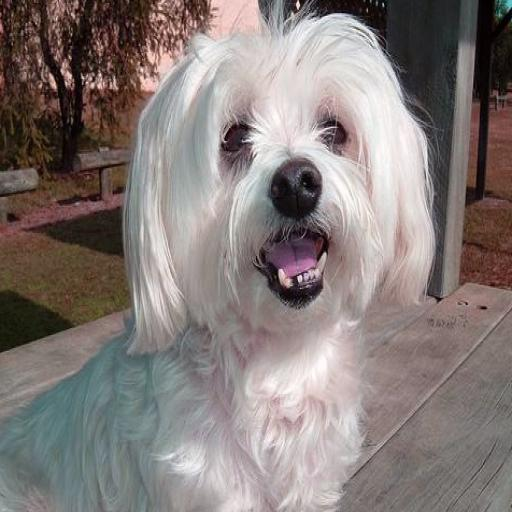dog_face: (129, 26, 432, 351)
